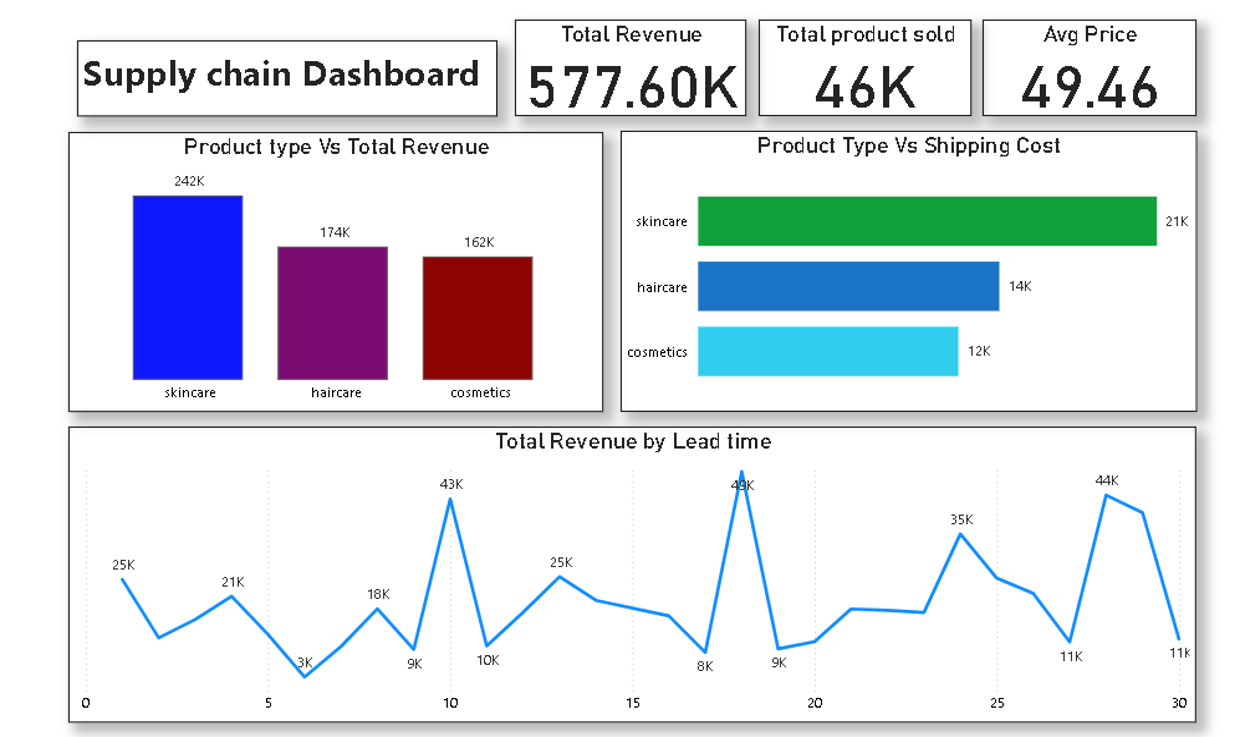

What the dashboard file says about the page in this screenshot:
{"tool":"powerbi","page":{"name":"Sales","canvas":[1280,720],"ordinal":0},"visuals":[{"type":"card","title":"Total Revenue","fields":{"Values":["Measure.Total Revenue"]},"box":[576.5,41,211.9,90],"z":0},{"type":"card","title":"Total product sold","fields":{"Values":["Measure.Total Product sold"]},"box":[799.7,41,194.8,90],"z":1000},{"type":"card","title":"Avg Price","fields":{"Values":["Measure.Avg Price"]},"box":[1004.8,41,195.9,90],"z":2000},{"type":"lineChart","fields":{"Y":["Measure _Table.Total Revenue"],"Category":["supply_chain_data.Lead time"]},"box":[167.5,420.4,1033.3,275.7],"z":3000},{"type":"clusteredBarChart","title":"Product Type Vs Shipping Cost","fields":{"Category":["supply_chain_data.Product type"],"Y":["Measure _Table.Total Product sold"]},"box":[673.3,144.5,527.6,261.5],"z":4000},{"type":"columnChart","title":"Product type Vs Total Revenue","fields":{"Category":["supply_chain_data.Product type"],"Y":["Measure _Table.Total Revenue"]},"box":[167.5,145.8,489.9,260.9],"z":5000},{"type":"textbox","box":[175.4,60.4,385.1,70.6],"z":6000}]}

Visuals, with their boxes on the page's 1280x720 design canvas (x1, y1, x2, y2). These are canvas units, not pixel positions in the 1240x737 screenshot, which may show the page scaled, cropped or inside an application window:
"Total Revenue" card: 576:41:788:131
"Total product sold" card: 800:41:994:131
"Avg Price" card: 1005:41:1201:131
lineChart - Measure _Table.Total Revenue x supply_chain_data.Lead time: 168:420:1201:696
"Product Type Vs Shipping Cost" clusteredBarChart: 673:144:1201:406
"Product type Vs Total Revenue" columnChart: 168:146:657:407
textbox: 175:60:560:131
